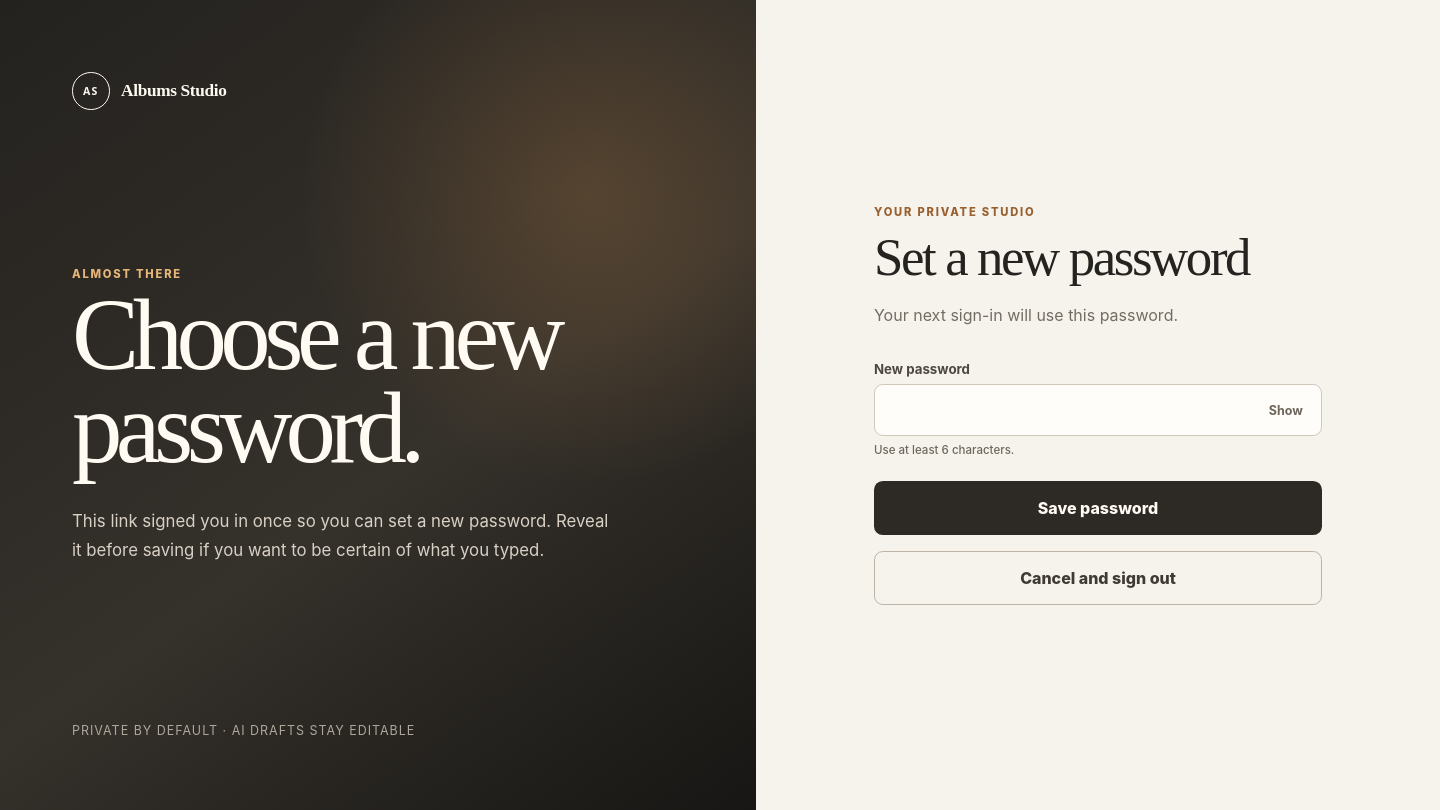
Test: ResetPasswordForm › surfaces a rejected password and stays on the form
Type "short" into the password field labelled "New password" at (1098, 410), box [874,384,1322,436]
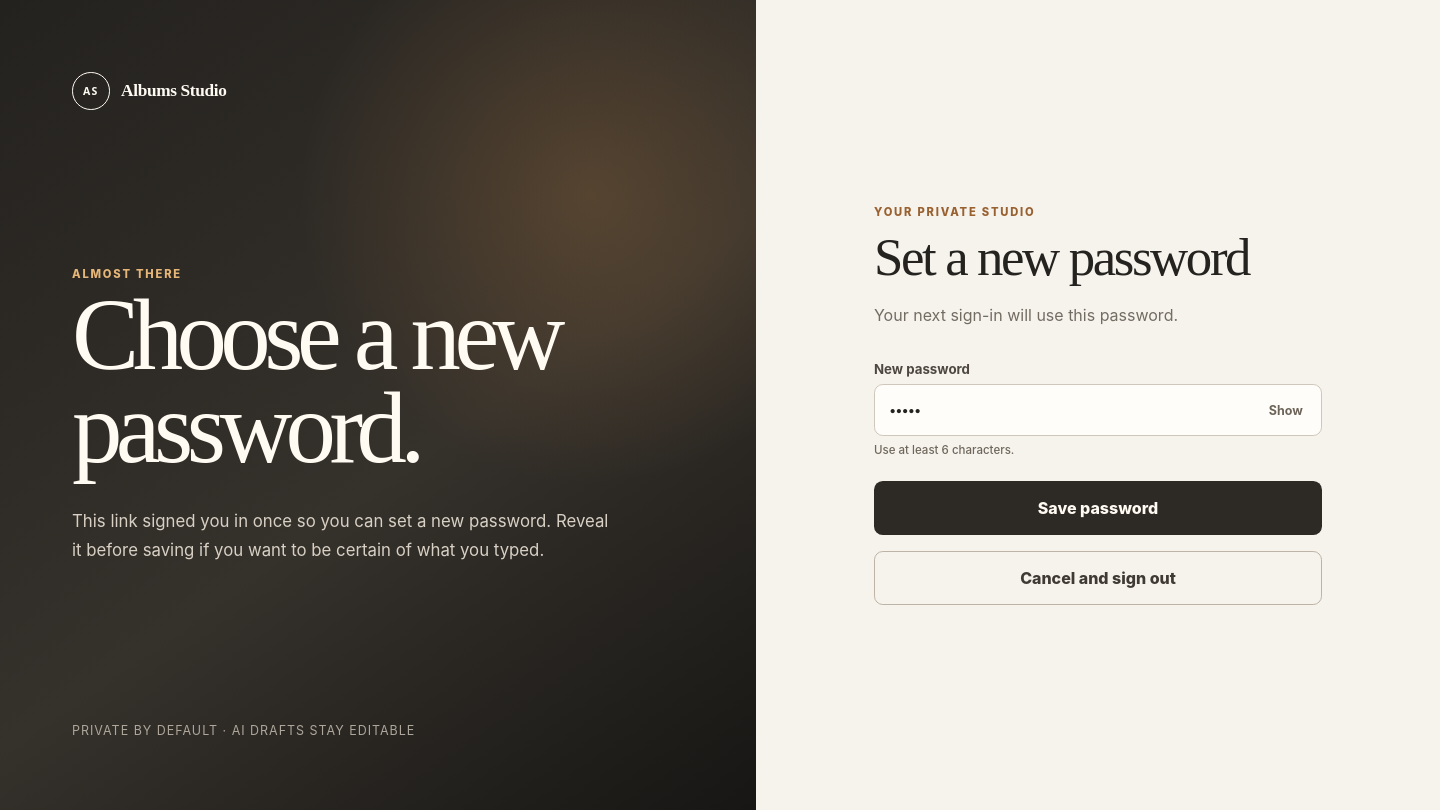
Click the button "Save password" at (1098, 508), box [874,481,1322,535]
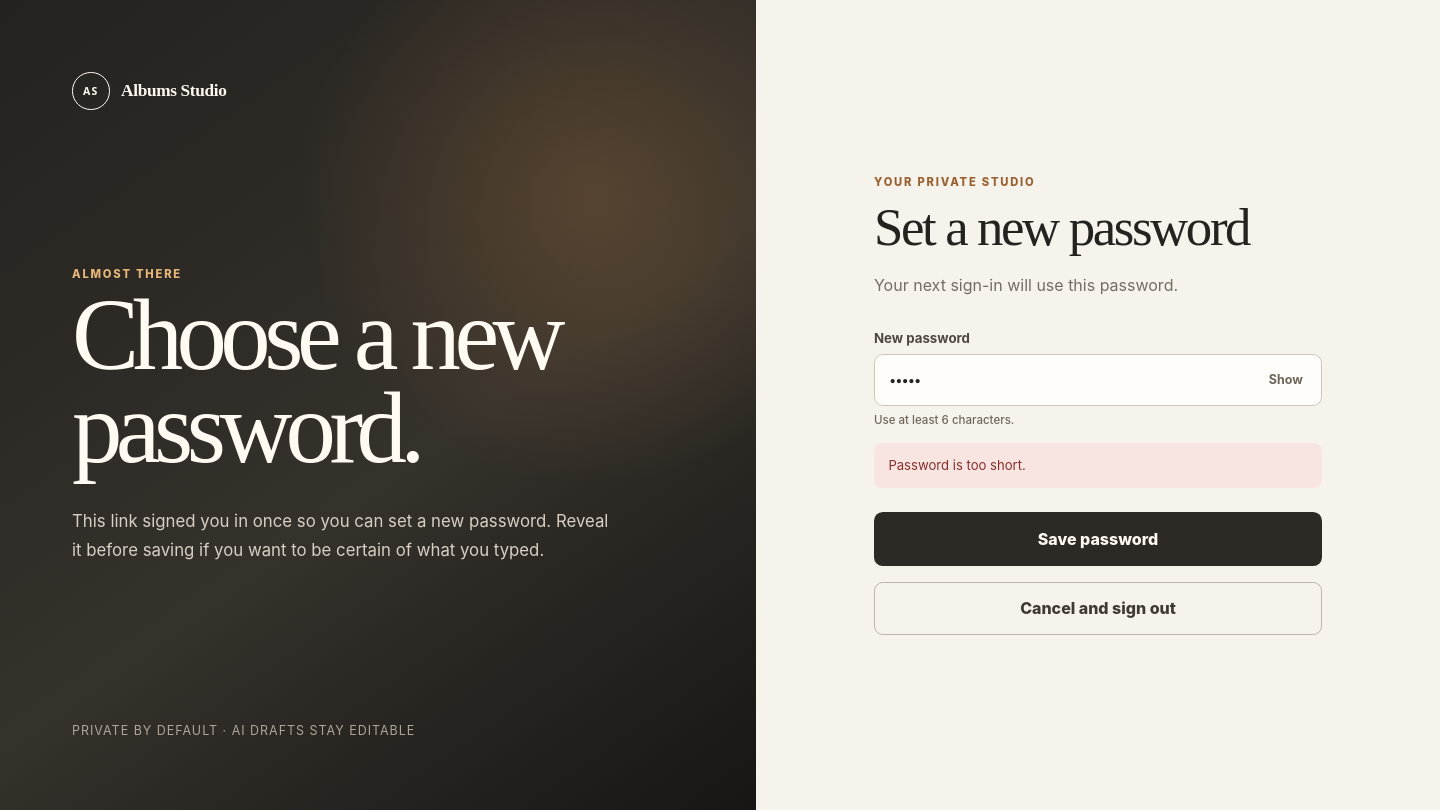
Check: the button "Save password" is enabled, box [874,512,1322,566]
Check: the message reads "Password is too short.", box [888,456,1026,472]
